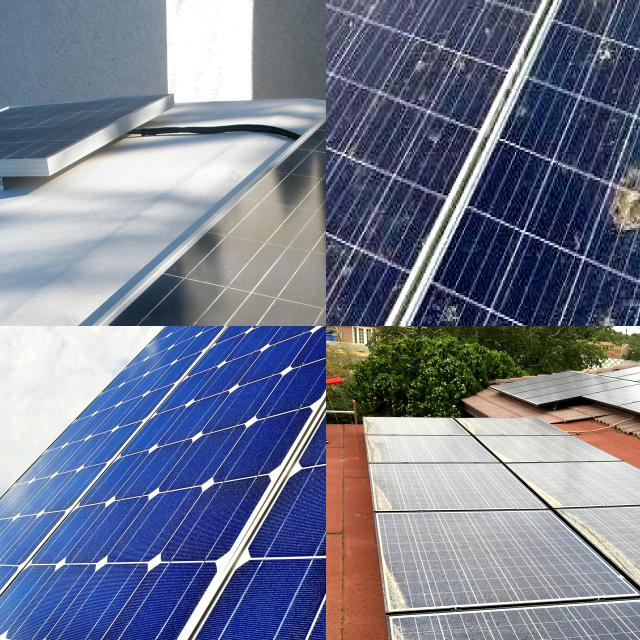bird: (604, 96, 640, 243), (589, 28, 623, 78), (585, 299, 640, 326), (432, 288, 471, 326), (581, 0, 617, 27), (326, 126, 338, 173)
crack: (0, 109, 326, 326), (13, 555, 216, 640), (169, 555, 326, 640), (238, 438, 326, 565), (220, 411, 323, 488), (258, 358, 326, 419), (294, 326, 326, 369)
dust: (382, 516, 536, 612)
